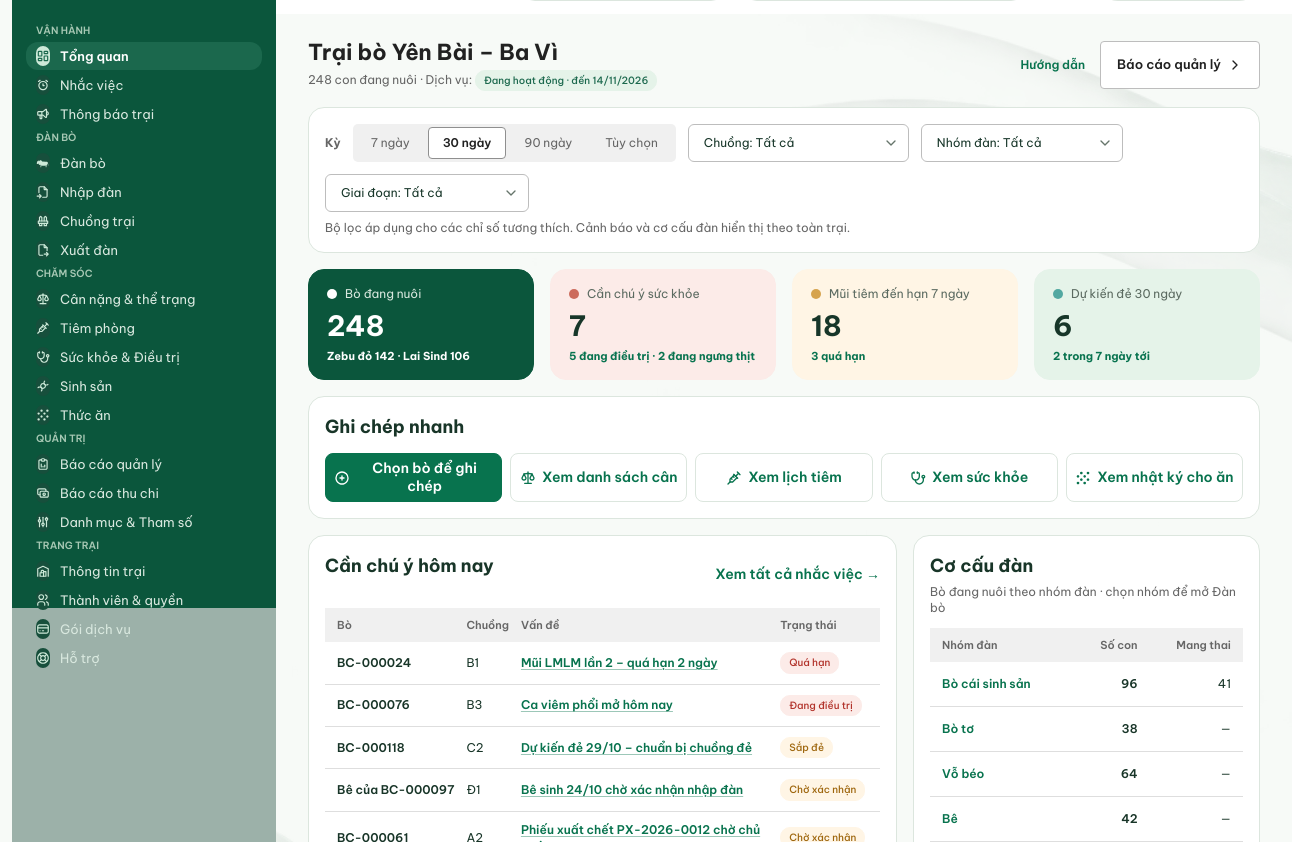
farm dashboard › shows the filters before the indicators and filters metrics while keeping the whole-farm tables
The image size is (1292, 842).
Check: the heading "Trại bò Yên Bài – Ba Vì" is shown, box [308,38,558,66]
Check: the text "Zebu đỏ 142 · Lai Sind 106" is shown, box [327,349,470,363]
Select "Chuồng D1 · Vỗ béo" in the dropdown named "Chuồng". click: coordinates (798, 143)
box: [688,124,909,162]
(page scrolled)
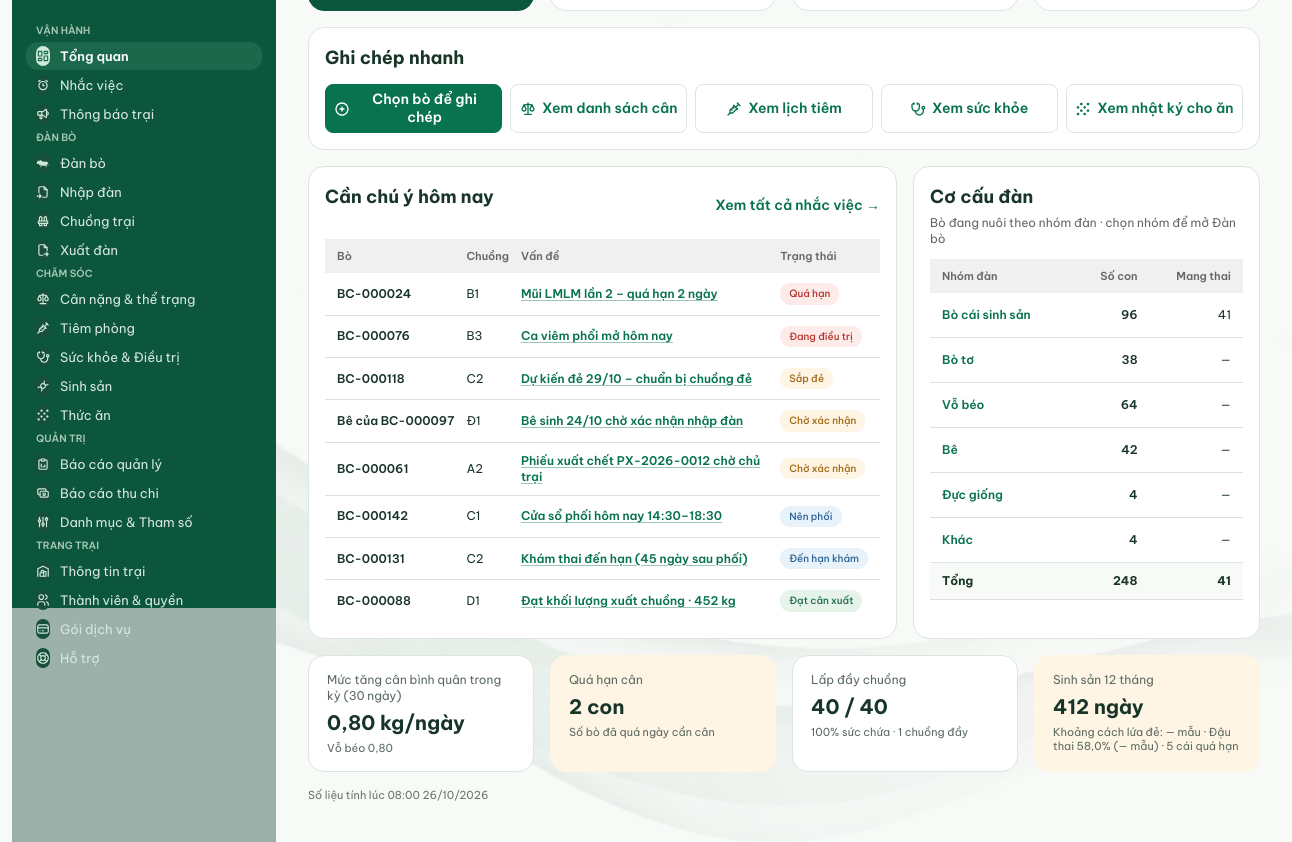
Check: the link "Mũi LMLM lần 2 – quá hạn 2 ngày" is shown, box [521,286,718,302]
Check: the text "40 / 40" is shown, box [811,694,888,719]
